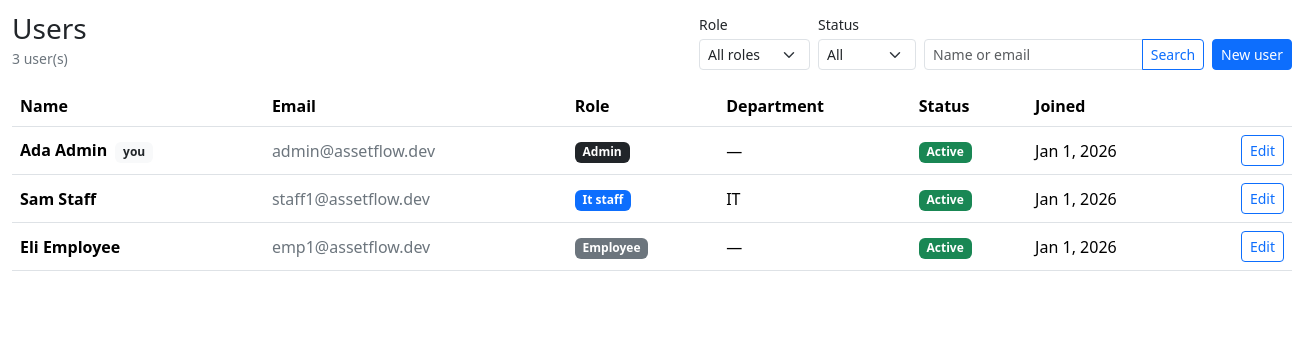
Test case: UsersPage › deactivating shows a warning hint and sends isActive=false
Click the button "Edit" in the row of "Eli Employee" at (1262, 246), box [1241,231,1284,262]
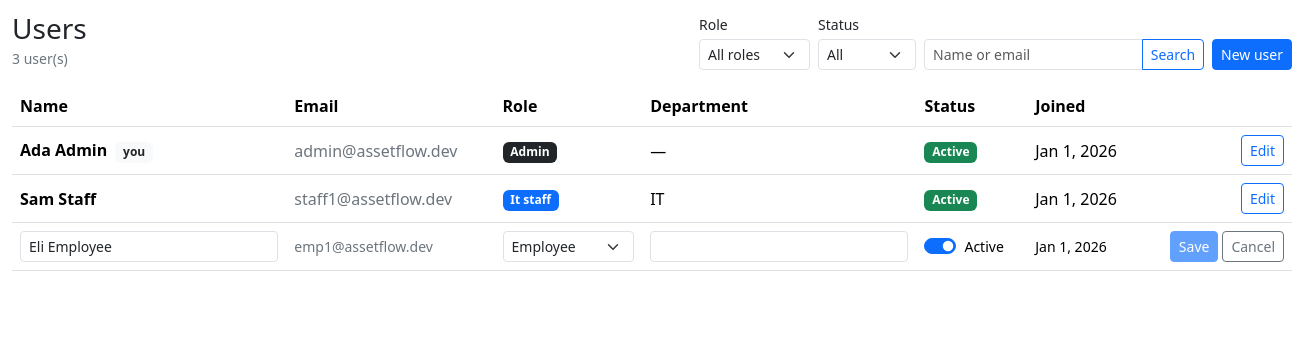
Click the checkbox labelled "Active" at (940, 246), box [924,238,956,254]
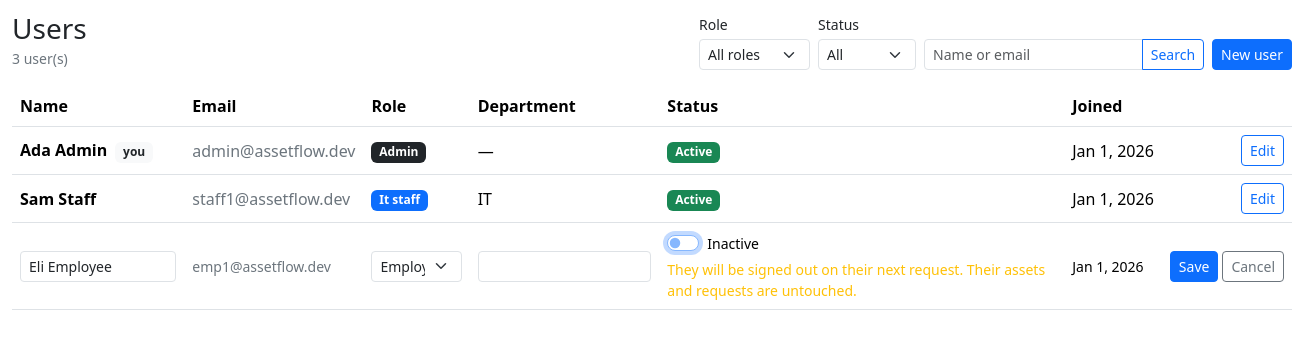
Now the text "signed out on their next request" is shown, box [667,260,1045,300]
Click the button "Save" at (1194, 266), box [1170,250,1218,282]
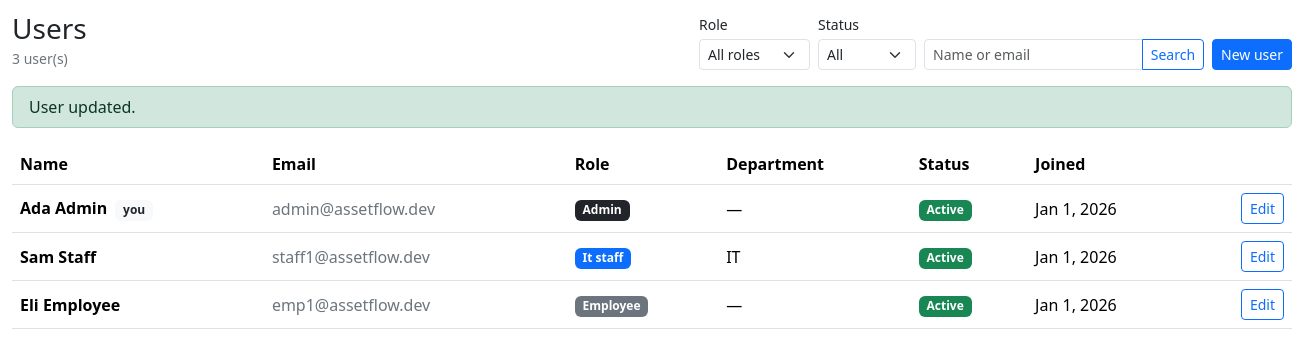
Now the message reads "User updated.", box [29,96,136,118]
